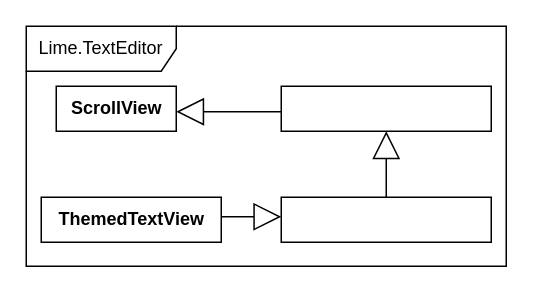
Some shapes in this 533 by 293 pixel diagram are drawn without their labels. The centre of each missing label's shape, as x and y in pixels:
ScrollViewWithSlider: (x=385, y=108)
ThemedScrollView: (x=385, y=219)
